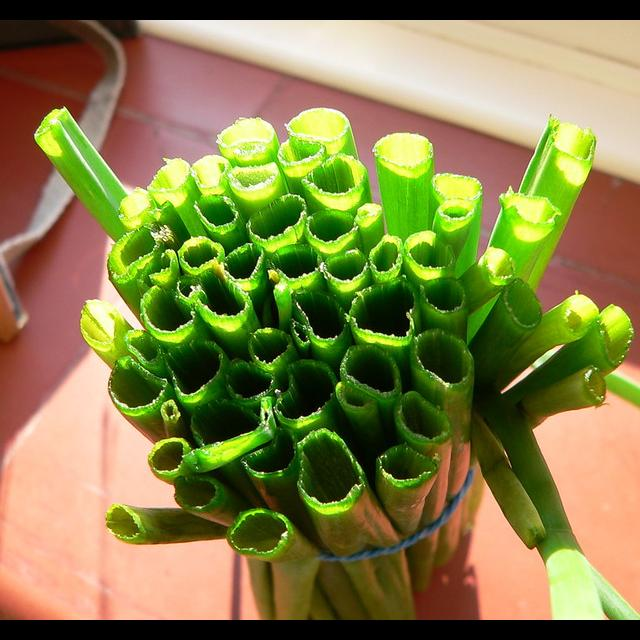green_onion: (35, 108, 640, 620)
